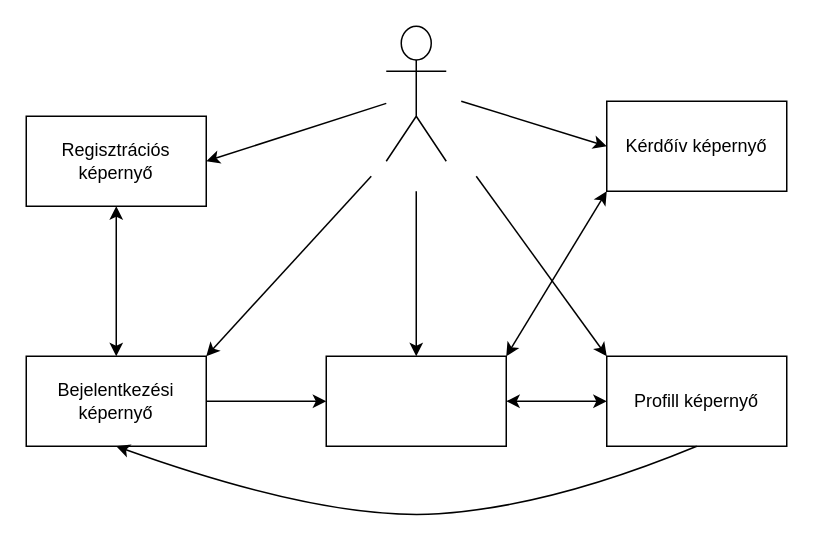
Some shapes in this 813 by 542 pixel diagram are drawn without their labels. The shapes that lost their labels are listed below. From the top down, each one's centre as x and y in pixels, then its label:
[415,93]: Felhasználó
[415,400]: Főoldal
